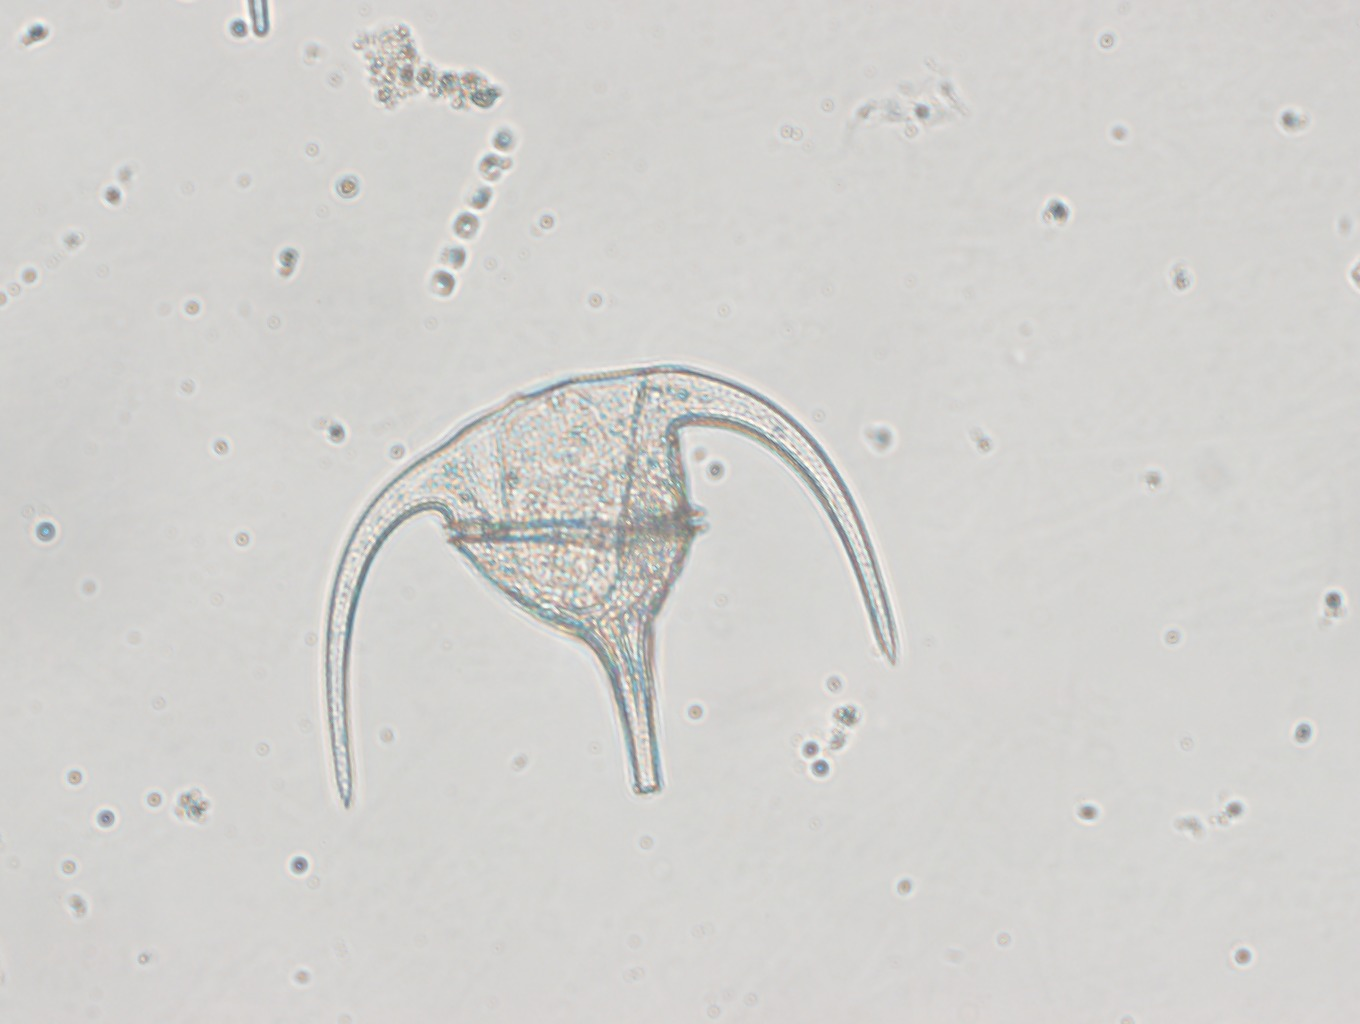ceratium tripos: (323, 364, 900, 813)
skeletonema: (425, 116, 520, 305)
